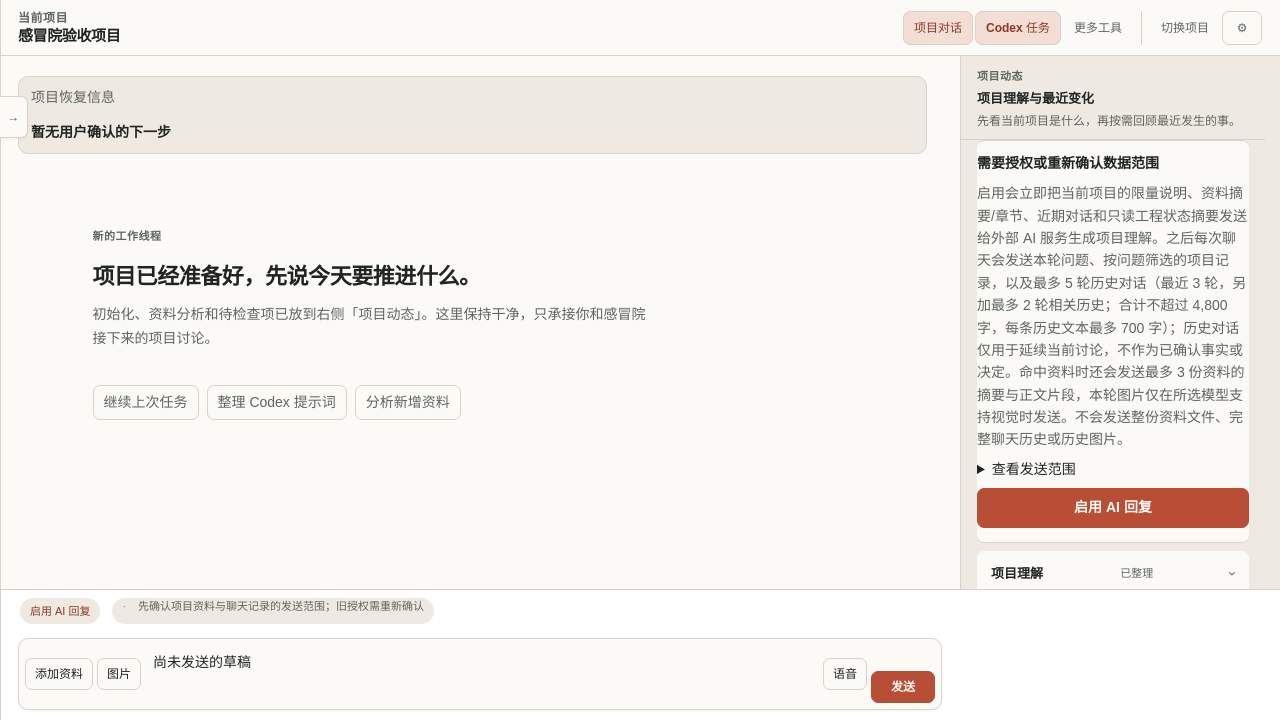
Test case: project workspace persistence flow › keeps project switching unavailable while a Codex run is active
Click the button "切换项目".
click(1185, 28)  # box [1150,10,1220,44]
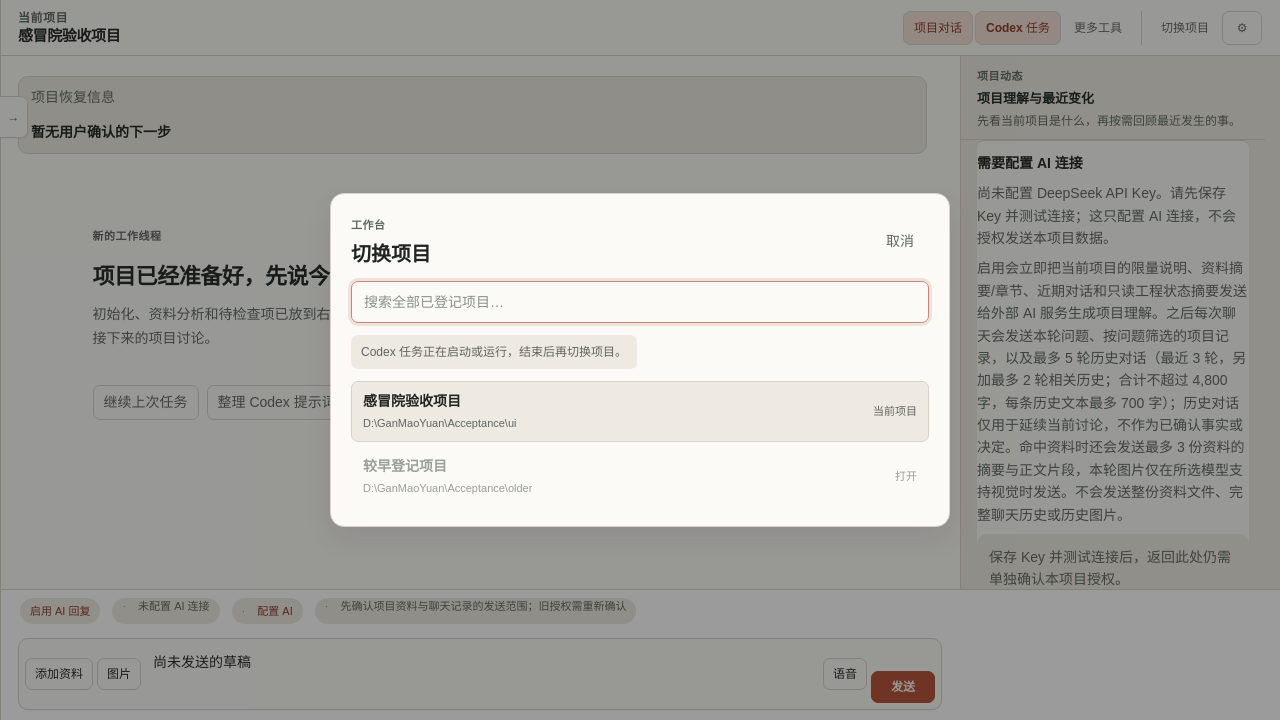
Check: the message shows "Codex 任务正在启动或运行", box [361,345,627,359]
Check: the button "较早登记项目 D:\\GanMaoYuan\\Acceptance\\older 打开" is disabled, box [351,446,929,506]
